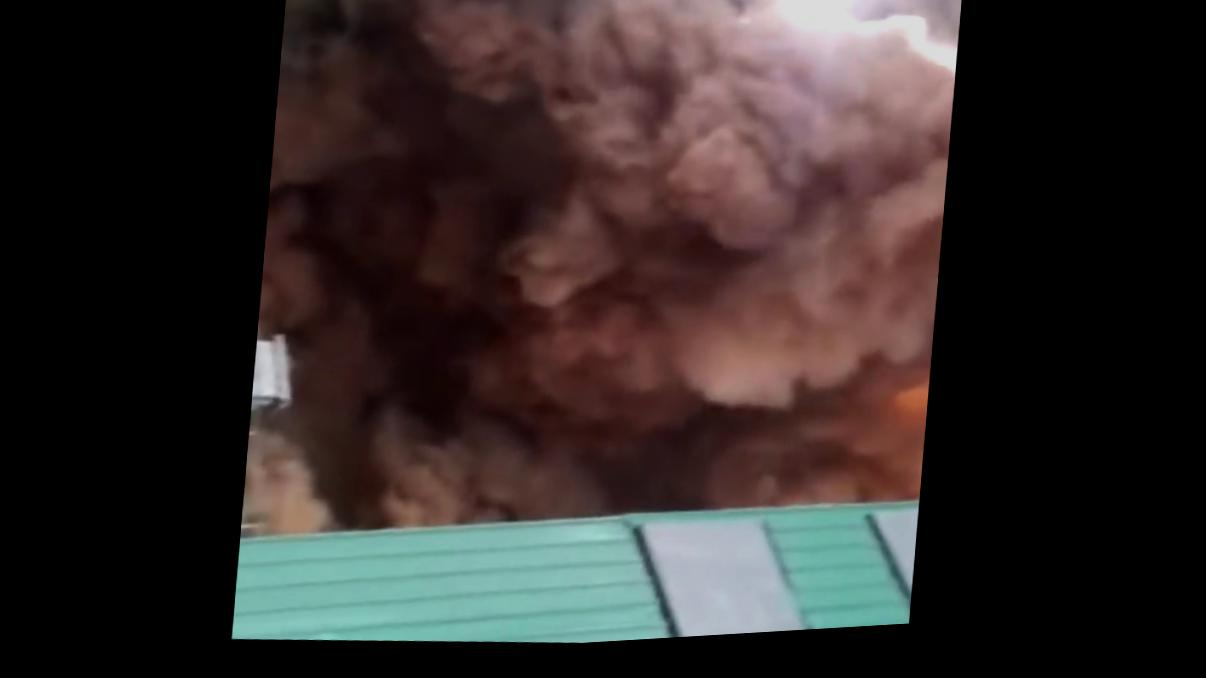smoke: (254, 1, 995, 550)
